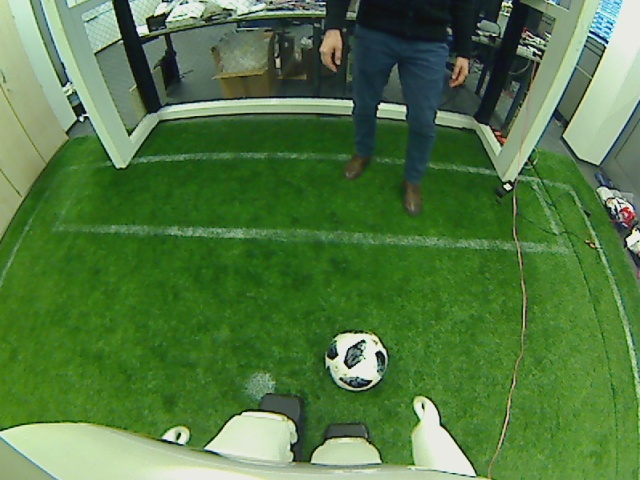ball: (323, 328, 389, 392)
